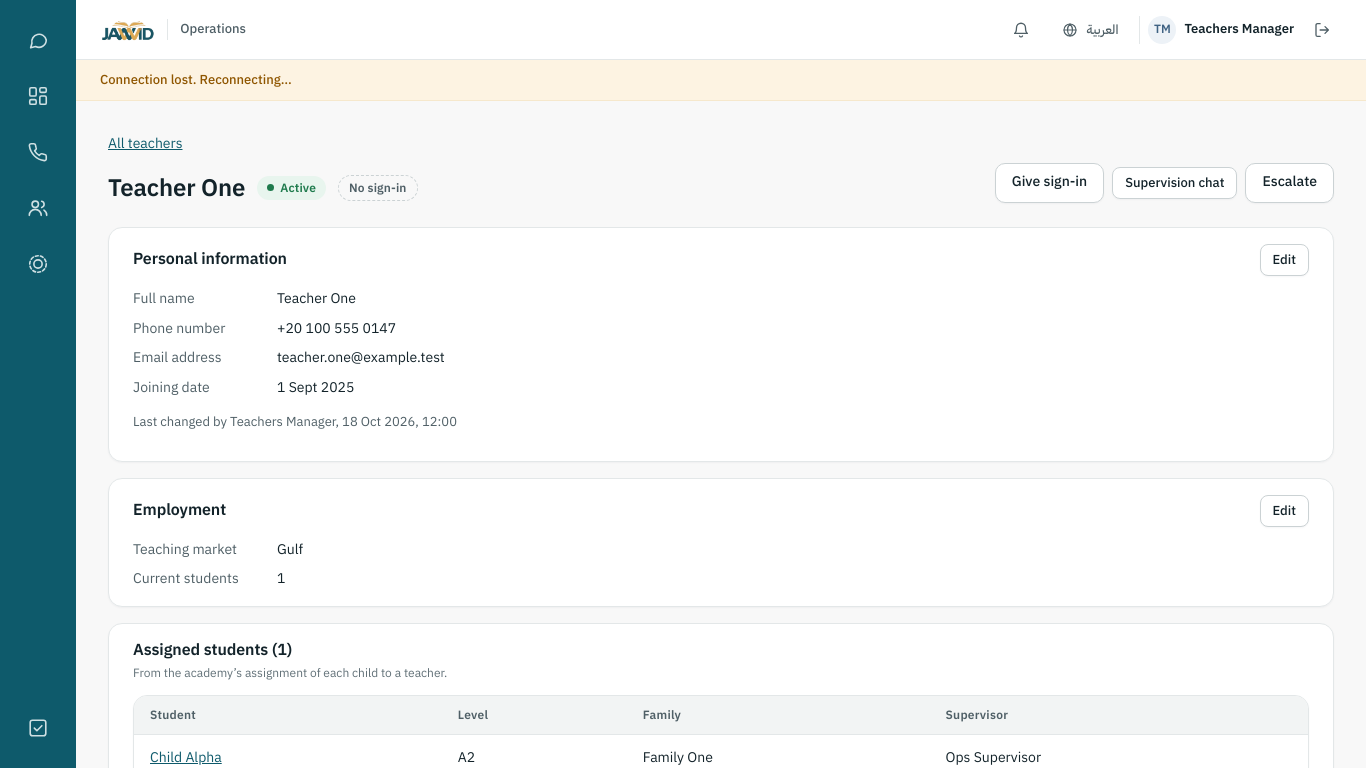
Test: Give sign-in › a teacher with no login: Give sign-in asks for the e-mail and shows the code once
Click the button "Give sign-in". click: (1050,183)
box: [995,163,1104,203]
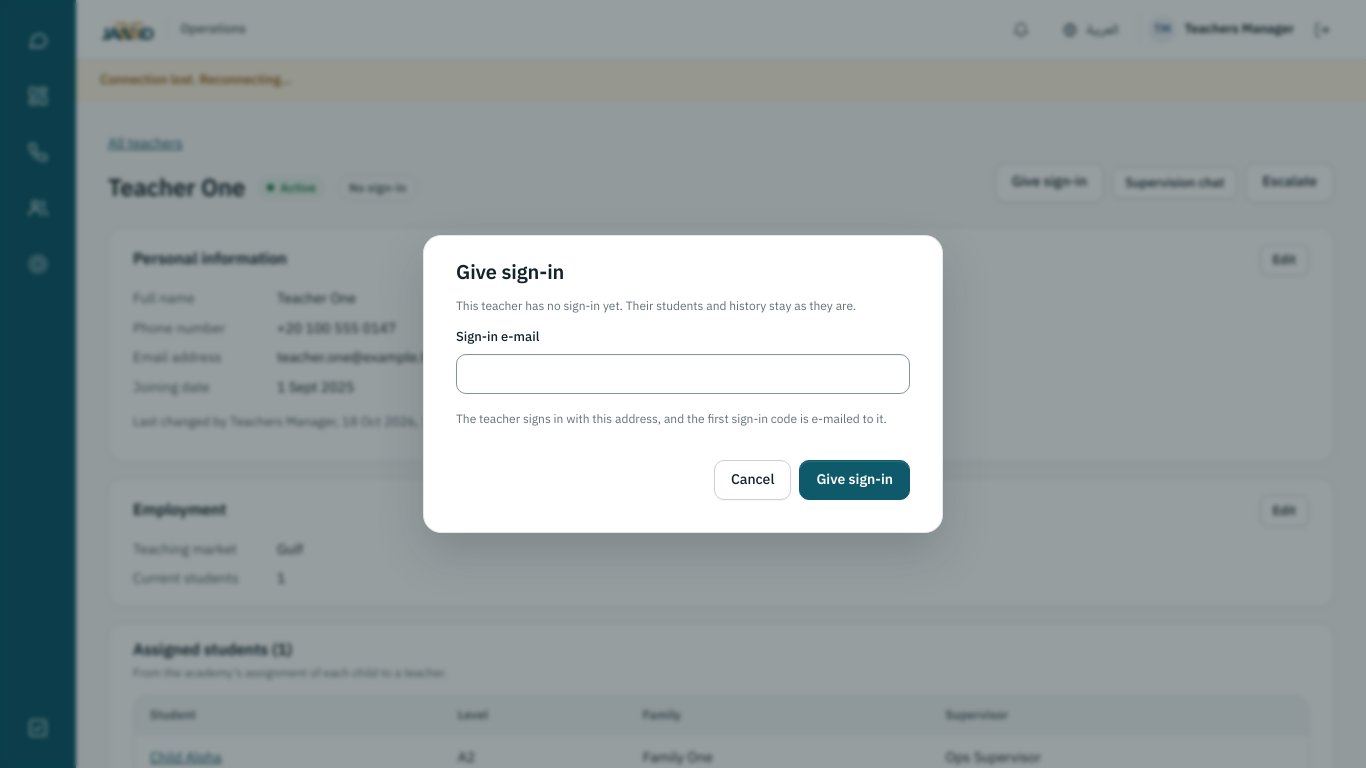
Type "teacher.one@example.test" into the field labelled "Sign-in e-mail". click: (683,374)
box: [456,354,910,394]
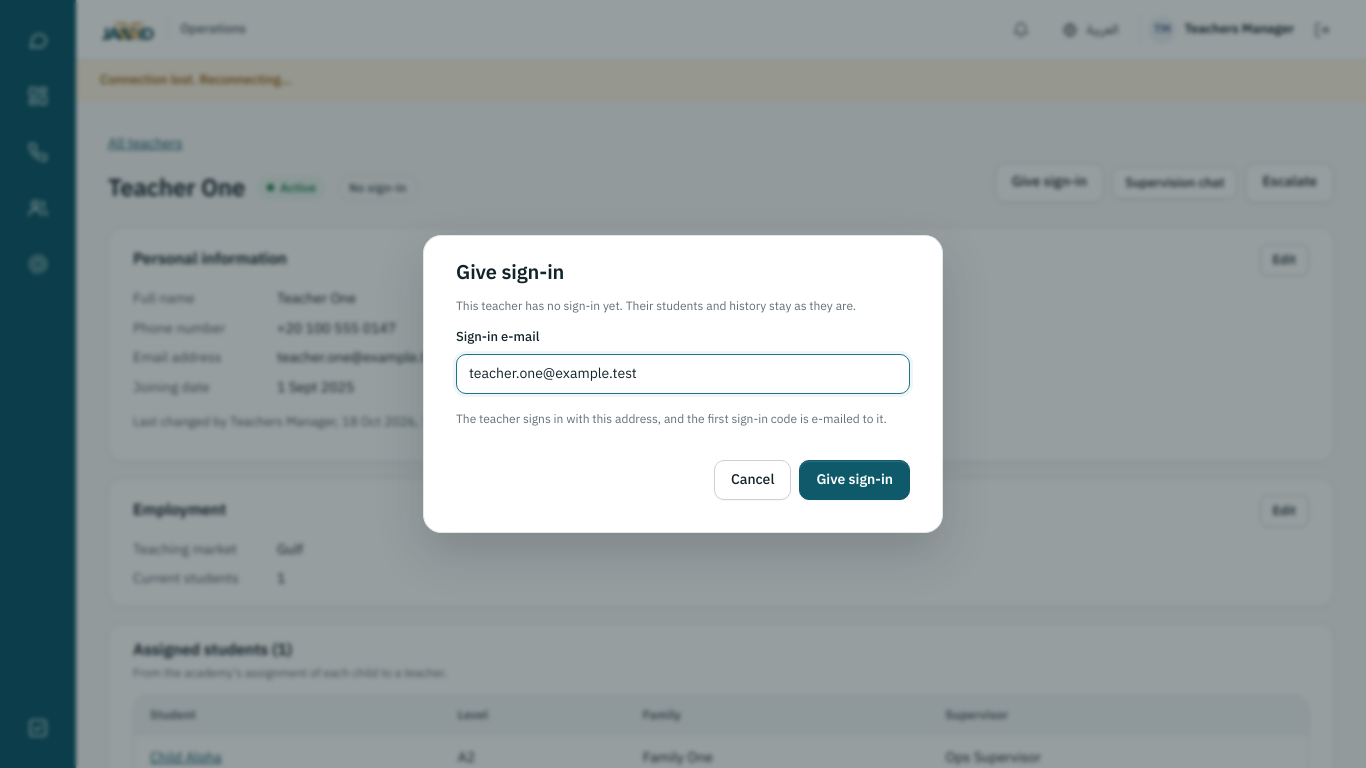
Click the 2nd button "Give sign-in". click: (855,480)
box: [799,460,910,500]
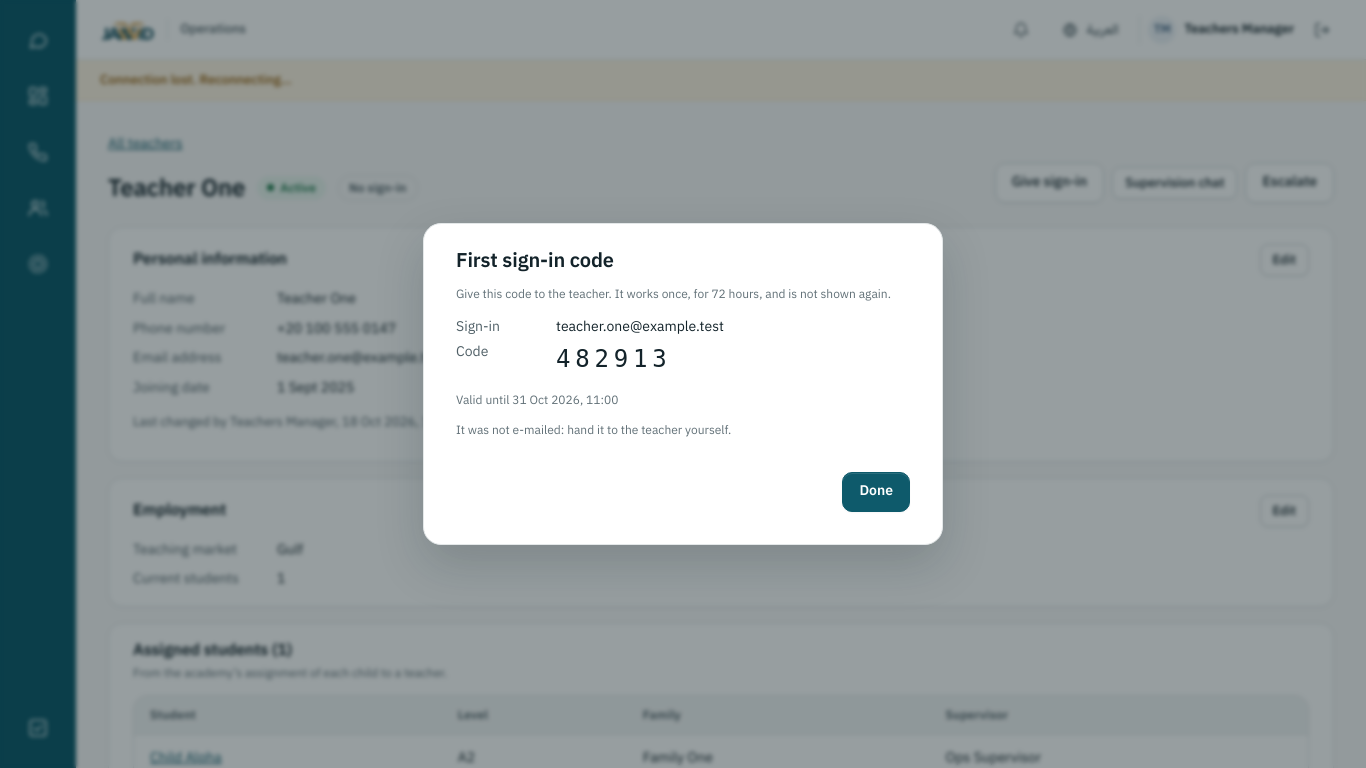
Expected: the text "482913" is shown, [556,346,672,374]
Click the button "Done". click: (876,492)
box: [842,472,910,512]
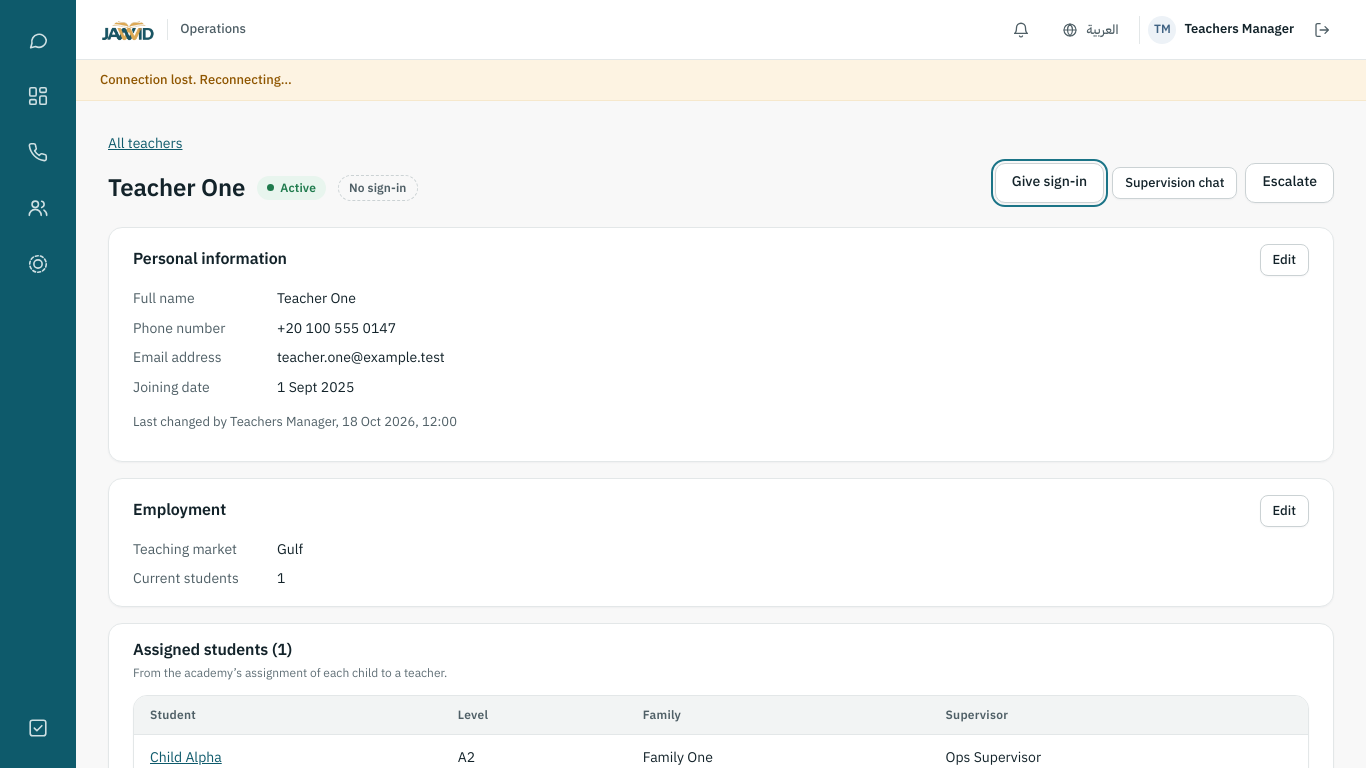
Expected: the text "482913" is gone
